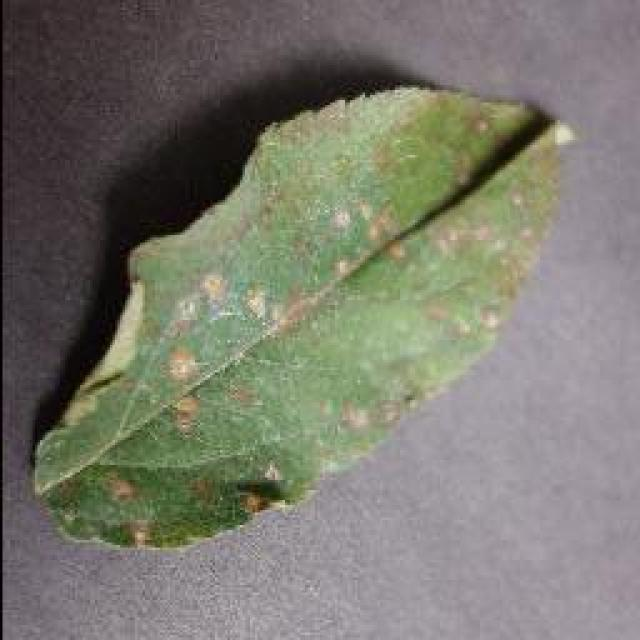apple scab disease: (30, 80, 565, 550)
